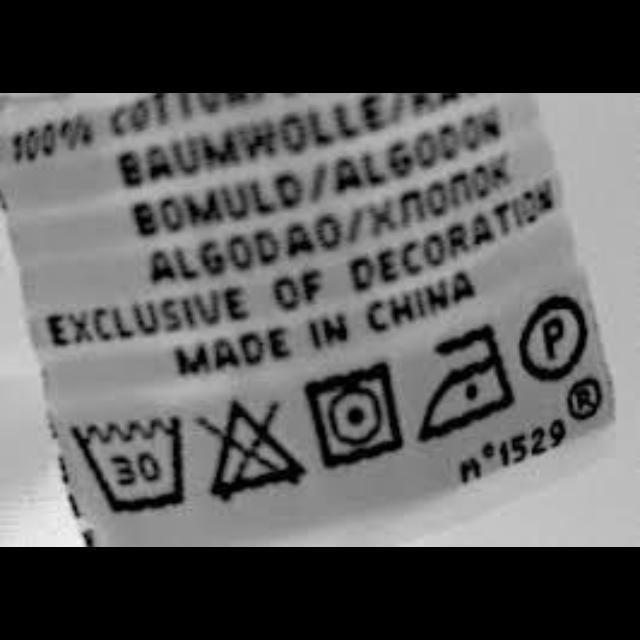30C: (64, 412, 194, 518)
DN_bleach: (190, 394, 314, 508)
iron_low: (416, 320, 518, 444)
normal_dry_clean_solvents: (516, 288, 592, 386)
tumble_dry_low: (296, 356, 412, 472)
